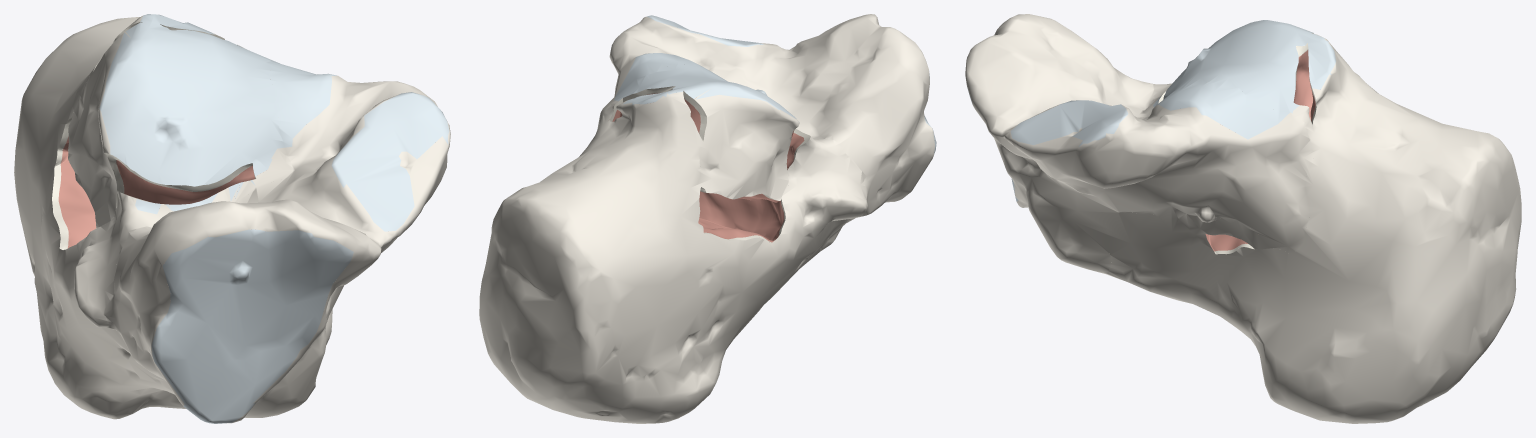
The model's file is S-IIB_young.glb.
The picture shows the model from 3 angles, left to right: view 1: azimuth 30°, elevation 25°; view 2: azimuth 150°, elevation 25°; view 3: azimuth 270°, elevation 25°; orthographic projection. The views are drawn at different scales.
Visible parts, largest first — view 1: calcaneus: sustentacular fragment, calcaneus: tuberosity, calcaneus: depressed lateral joint fragment; view 2: calcaneus: tuberosity, calcaneus: sustentacular fragment, calcaneus: depressed lateral joint fragment; view 3: calcaneus: tuberosity, calcaneus: sustentacular fragment, calcaneus: depressed lateral joint fragment.
Boxes of the visible parts, box(x1,y1,x2,y2) form: calcaneus: sustentacular fragment: box(104, 57, 450, 423); calcaneus: tuberosity: box(14, 14, 332, 419); calcaneus: depressed lateral joint fragment: box(68, 21, 287, 228); calcaneus: tuberosity: box(479, 89, 867, 423); calcaneus: sustentacular fragment: box(591, 14, 936, 252); calcaneus: depressed lateral joint fragment: box(615, 64, 799, 202); calcaneus: tuberosity: box(1105, 33, 1521, 423); calcaneus: sustentacular fragment: box(965, 14, 1313, 275); calcaneus: depressed lateral joint fragment: box(1163, 20, 1313, 223).
Bounding box in the file's own units: 0.0475 × 0.0513 × 0.0757.
